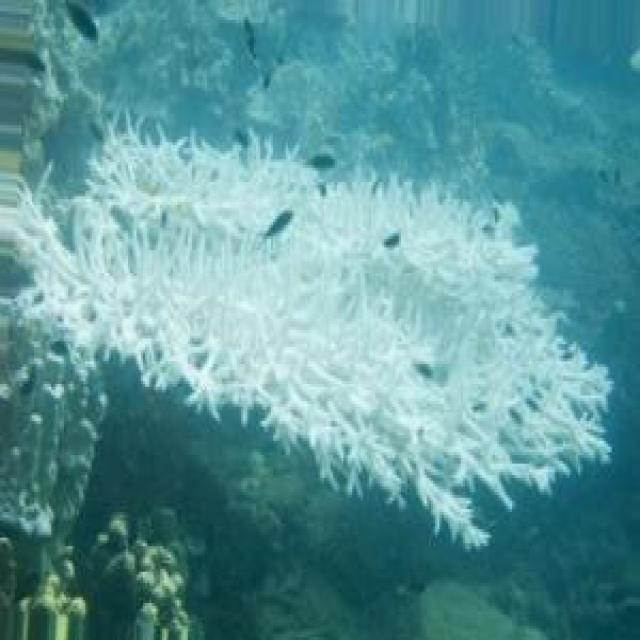bleached coral: (109, 191, 297, 262), (399, 210, 535, 296), (459, 390, 544, 501), (262, 356, 373, 435), (346, 236, 427, 333), (103, 206, 173, 313), (171, 299, 275, 361), (297, 188, 388, 253), (23, 299, 75, 344)
healthy coral: (64, 0, 149, 122), (107, 515, 181, 640), (337, 63, 439, 148), (418, 575, 540, 640), (538, 80, 640, 156), (228, 495, 314, 572), (222, 26, 273, 122), (198, 200, 270, 246)
